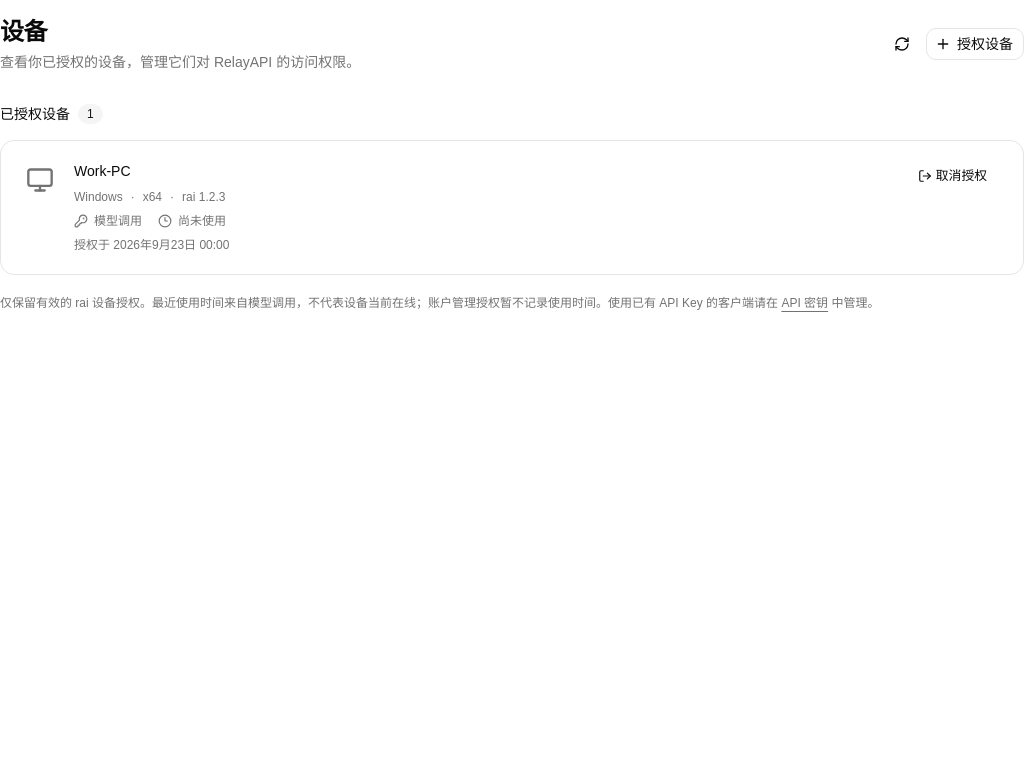
Test case: devices › keeps successful revocations hidden even if refreshing the list fails
Click the button with aria-label "取消 Work-PC 的授权" at (954, 176), box top-left (911, 162), bottom-right (998, 190)
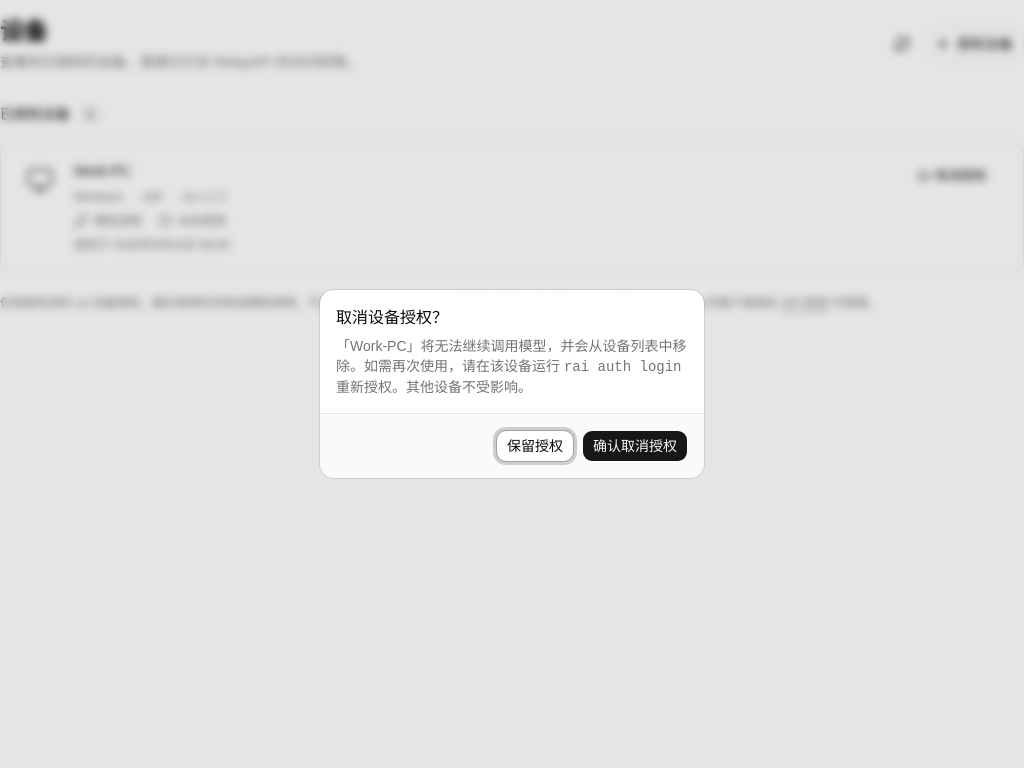
Click the button "确认取消授权" at (635, 446), box top-left (582, 430), bottom-right (688, 462)
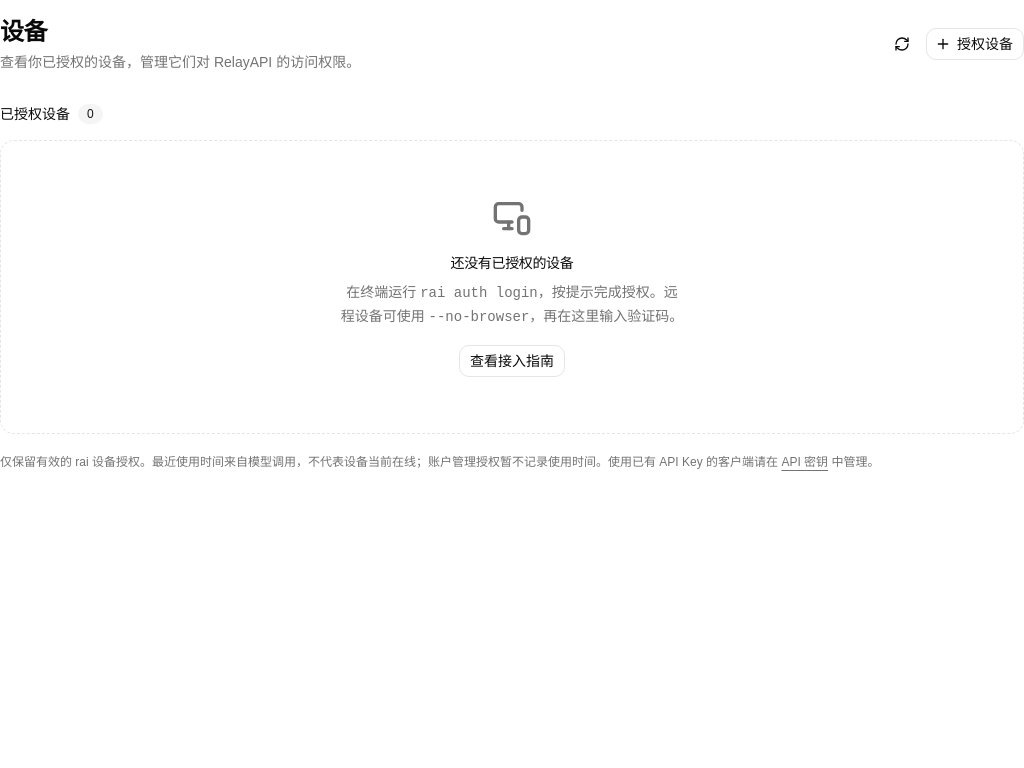
expect the text "还没有已授权的设备" is shown: met, box top-left (451, 253), bottom-right (574, 273)
